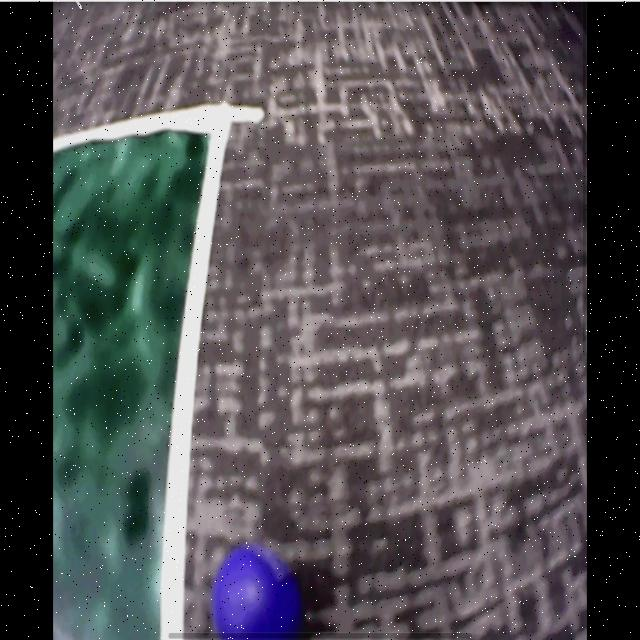ball: (215, 549, 297, 640)
